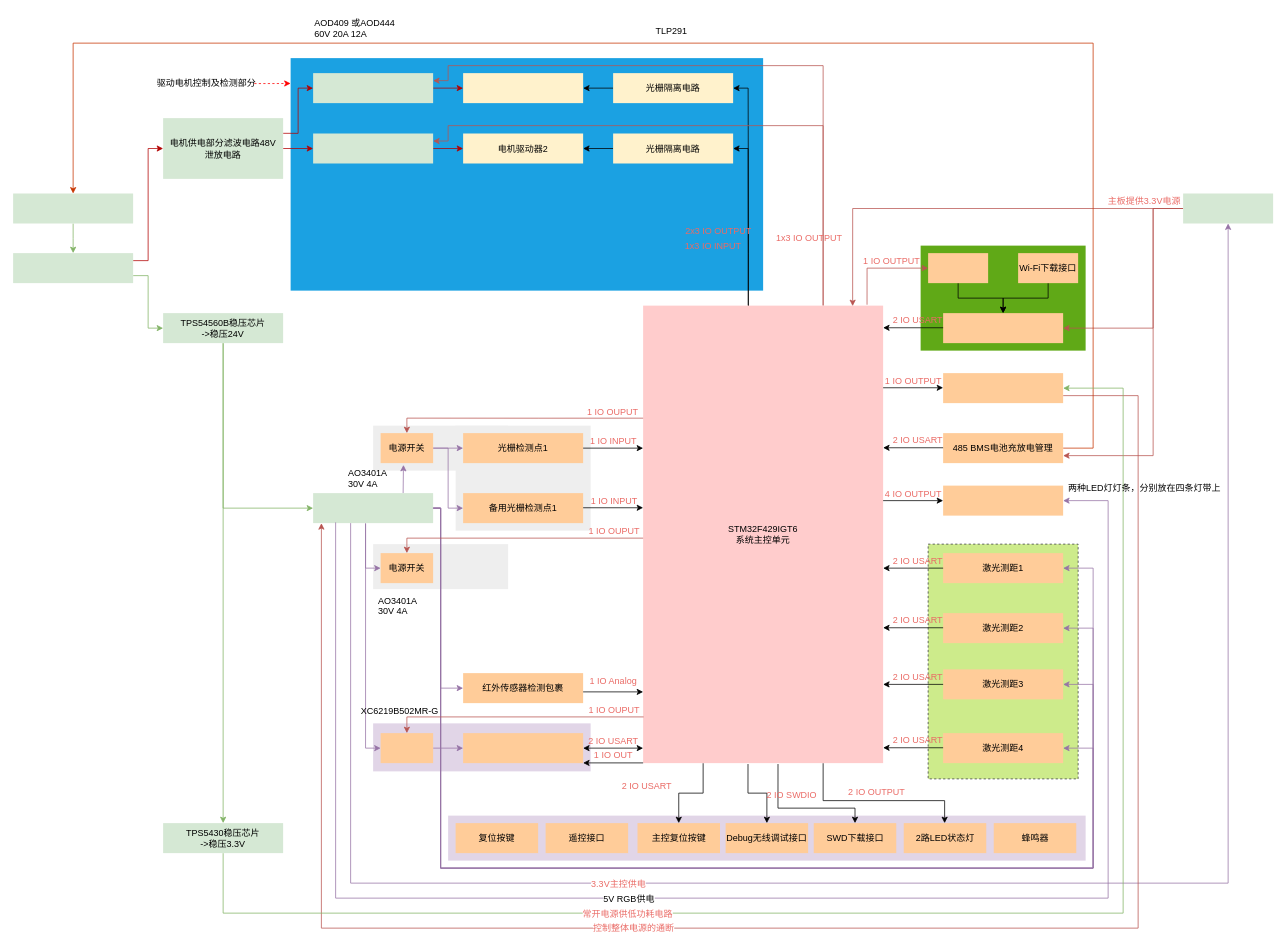
Some shapes in this 1286 by 947 pixel diagram are drawn without their labels. The shapes that lost their labels are listed below. From the top down, each one's box as (x1, y1, x2, y2) in pixels, then its label:
(313, 73, 433, 103): 前后方向电机电源开关48V
(463, 73, 583, 103): 电机驱动器1
(313, 133, 433, 163): 左右方向电机电源开关48V
(13, 193, 133, 223): 48V 电池Battery
(1183, 193, 1273, 223): 稳压输出3.3V
(13, 253, 133, 283): 机械开关、保护电路
(928, 253, 988, 283): Wi-Fi复位按键
(943, 313, 1063, 343): USART1 Wi-Fi通信模块
(943, 373, 1063, 403): 低功耗无线通信
(313, 493, 433, 523): TPS5430稳压芯片 ->稳压5V
(943, 485, 1063, 515): TM1812 RGB三色LED灯光
(380, 733, 433, 763): LDO
(463, 733, 583, 763): 条码采集传感器
